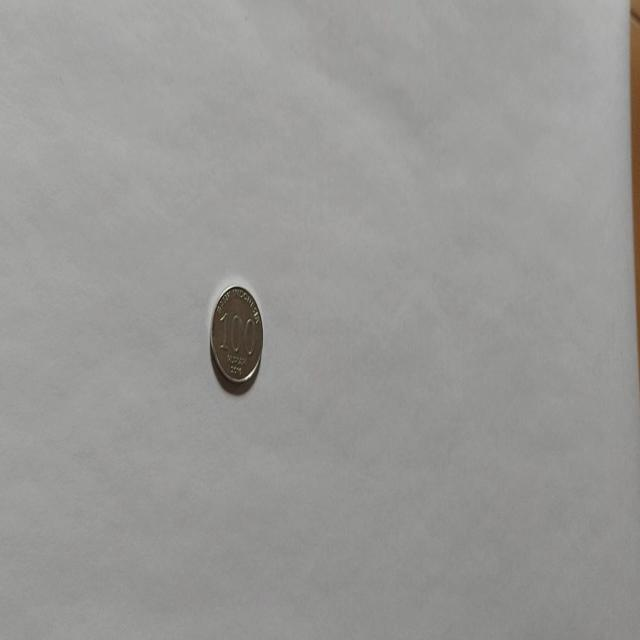seratus rupiah: (208, 282, 264, 386)
